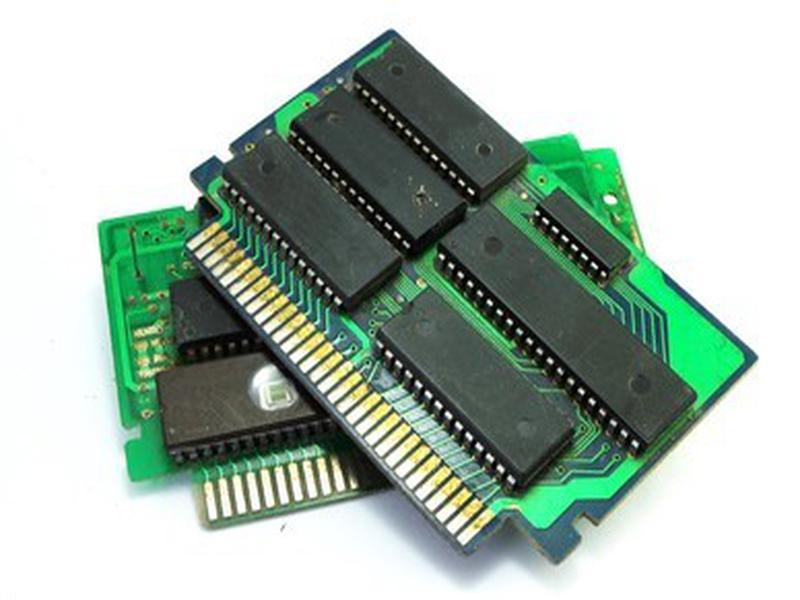circuit_board: (167, 24, 767, 570)
